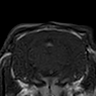Brain: (15, 32, 84, 79)
